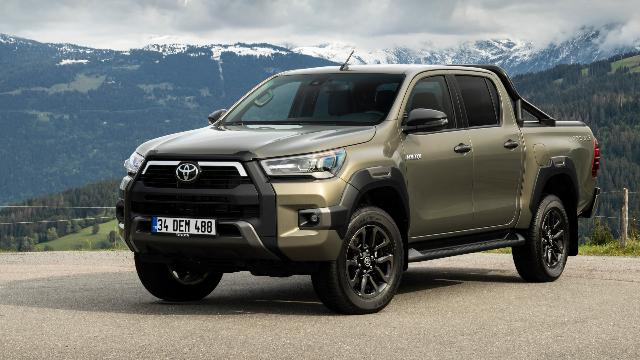pickup-truck: (121, 63, 600, 307)
